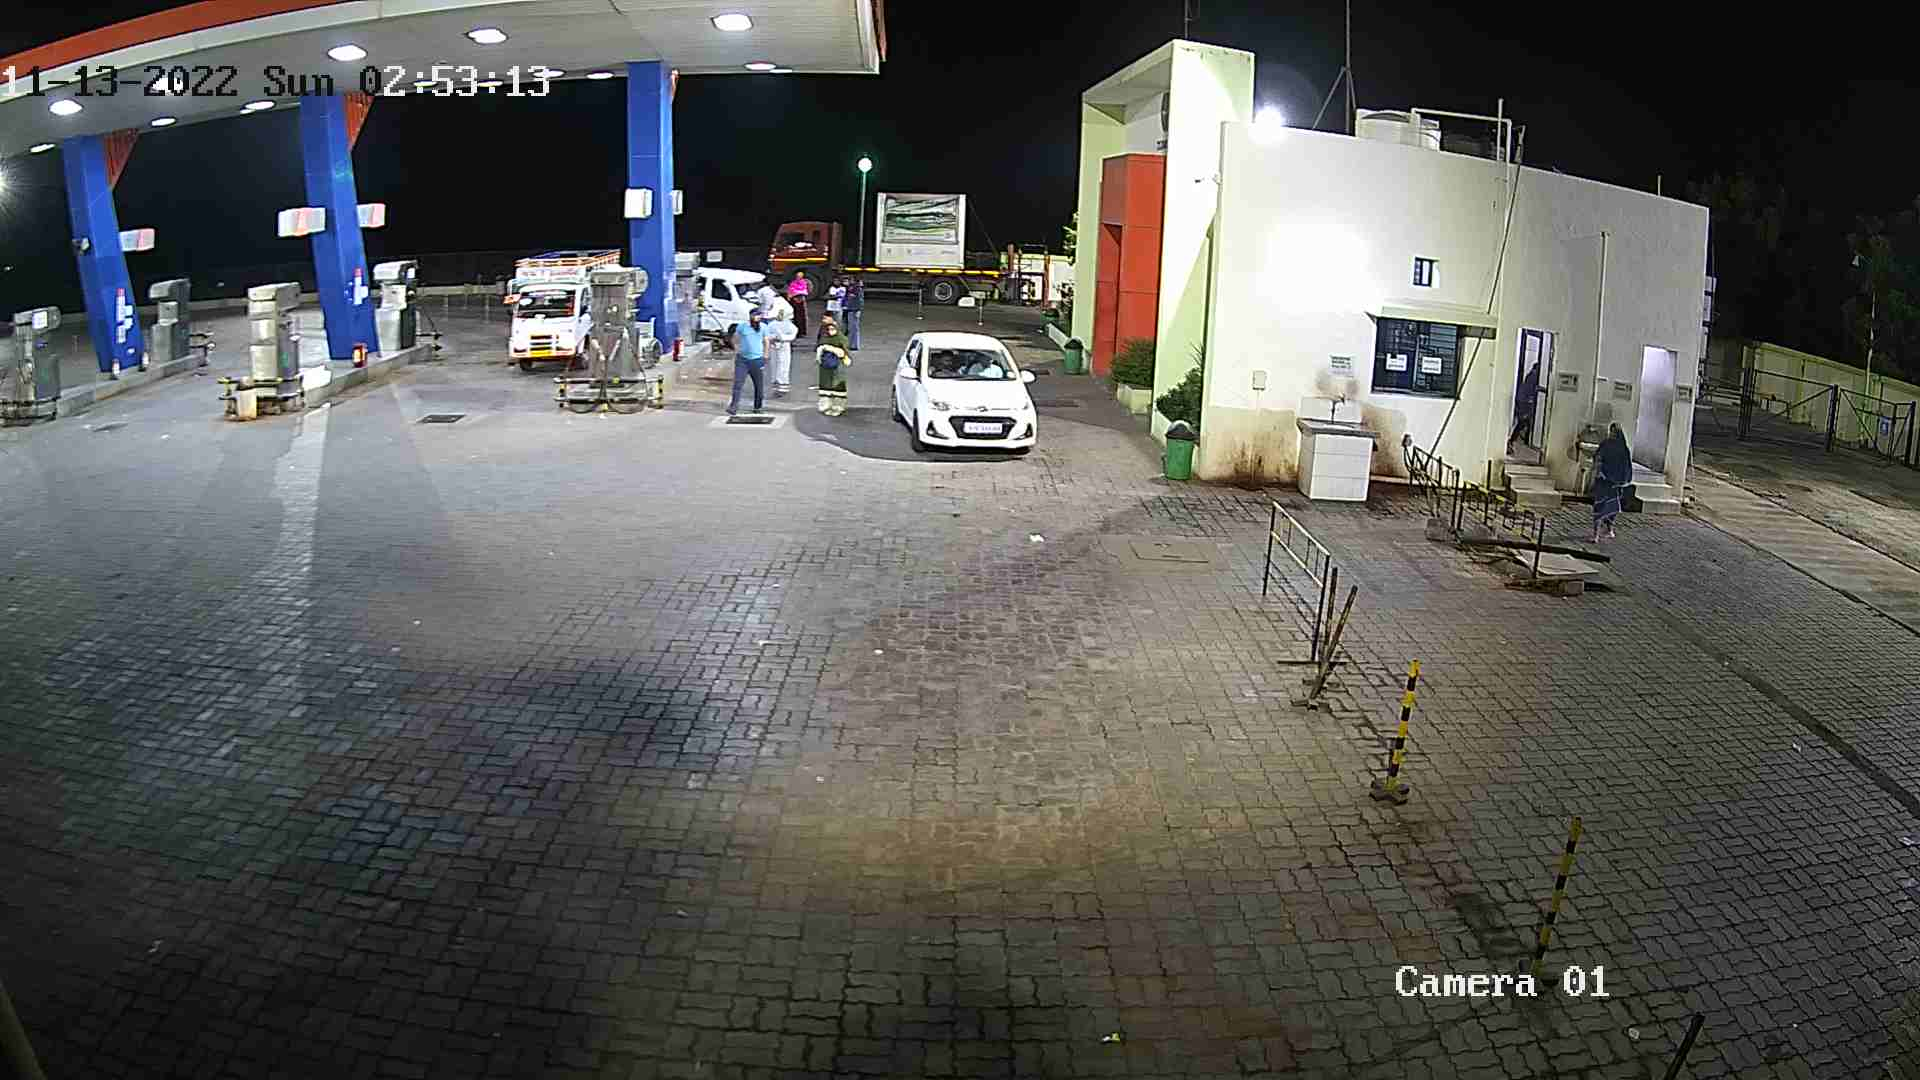Car: (885, 324, 1044, 465), (496, 241, 622, 380), (682, 262, 793, 351)
HMV: (754, 186, 1043, 311)
